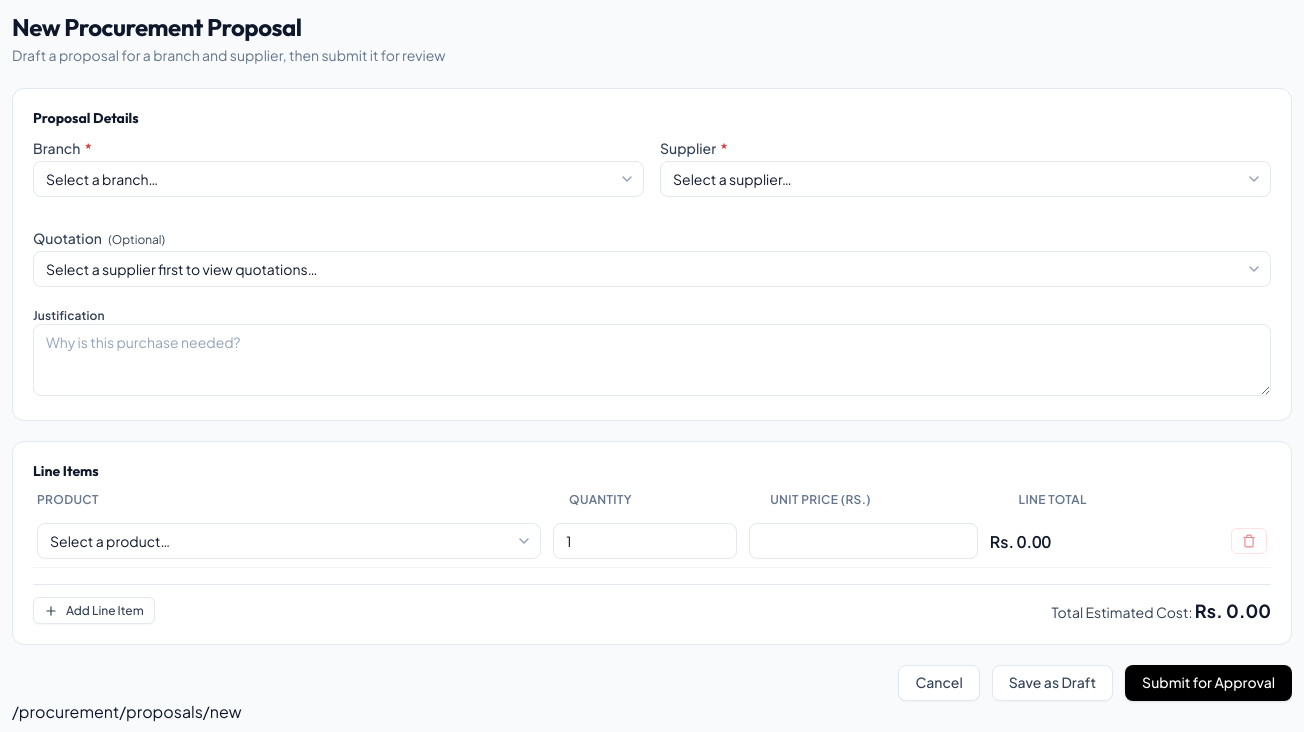
Test: NewProposalForm validation › requires supplier selection from the registered suppliers catalog
Select "Colombo Central (COL-01)" in the dropdown labelled "Branch *": (338, 179) x1=33 y1=161 x2=644 y2=197
Select "Lanka Stationery Distributors" in the dropdown labelled "Supplier *": (966, 179) x1=660 y1=161 x2=1271 y2=197
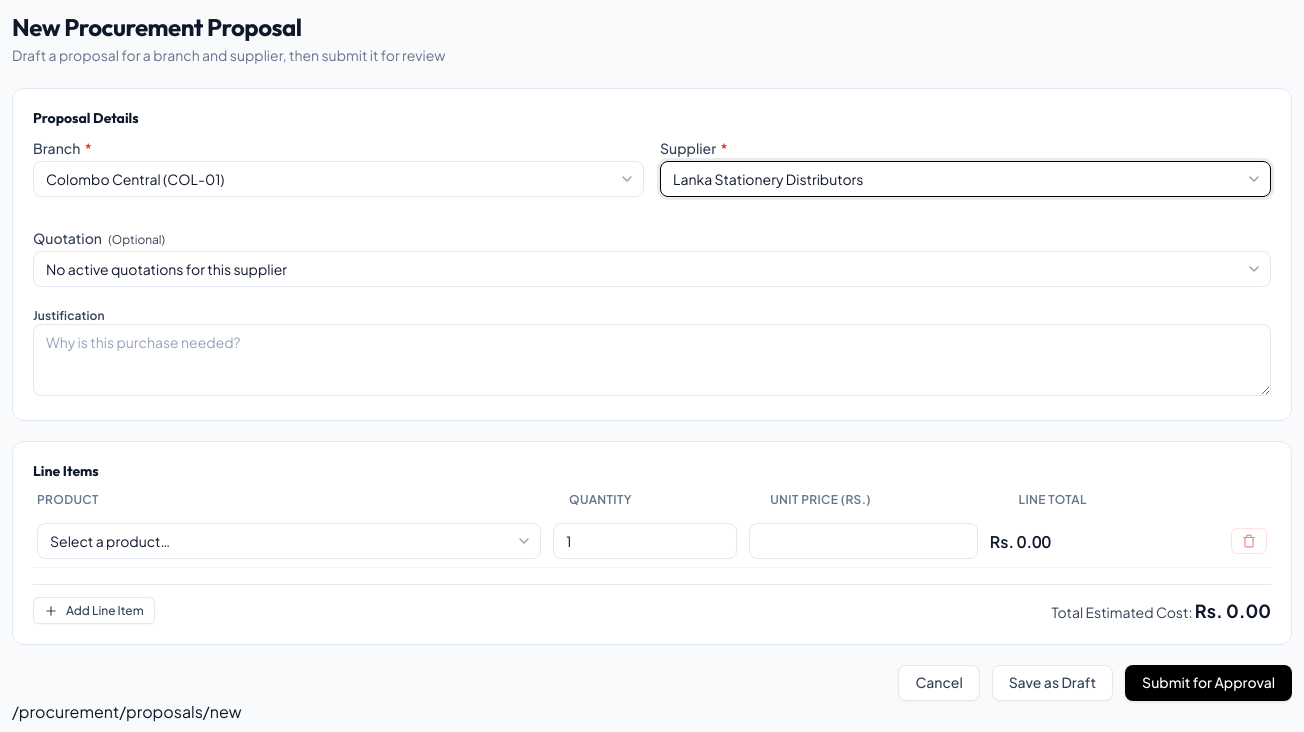
Select "Copy Paper A4 (PPR-A4)" in the dropdown named "Product": (289, 541) x1=37 y1=523 x2=541 y2=559
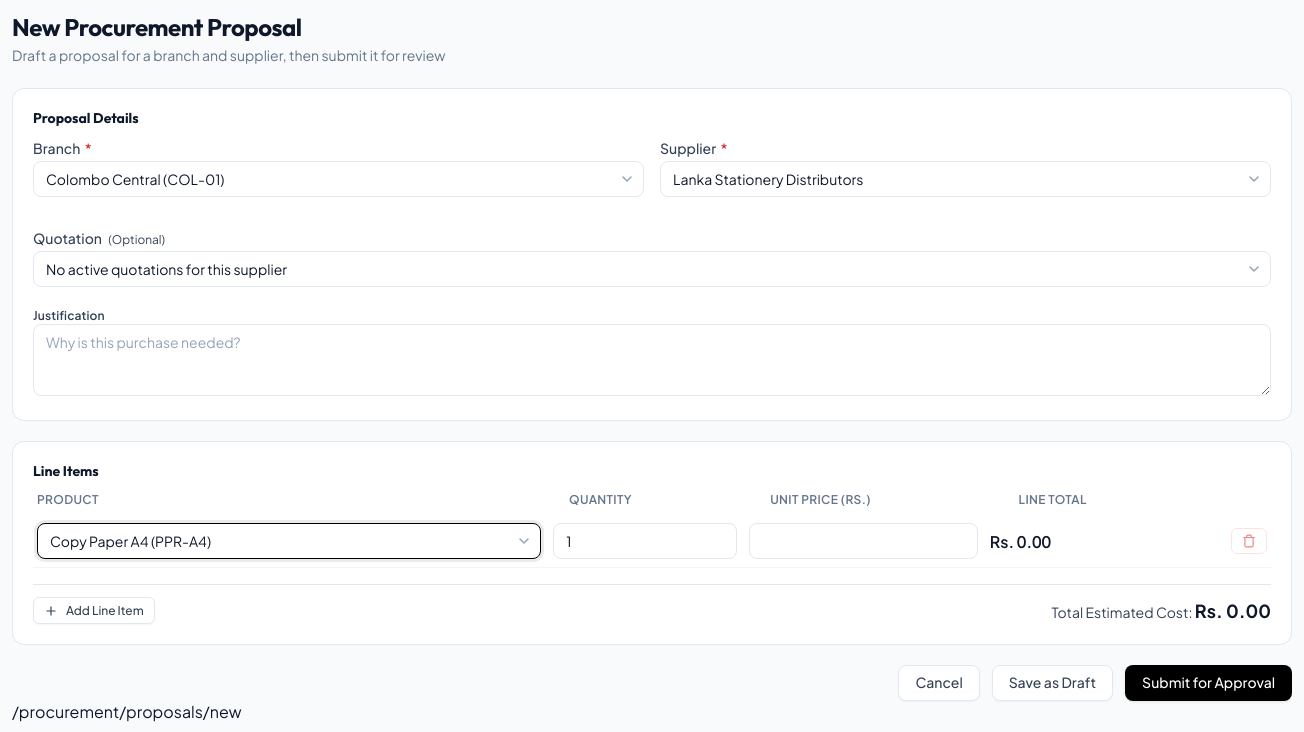
Replace the text in the 1st number field with "12": (645, 541) x1=553 y1=523 x2=737 y2=559
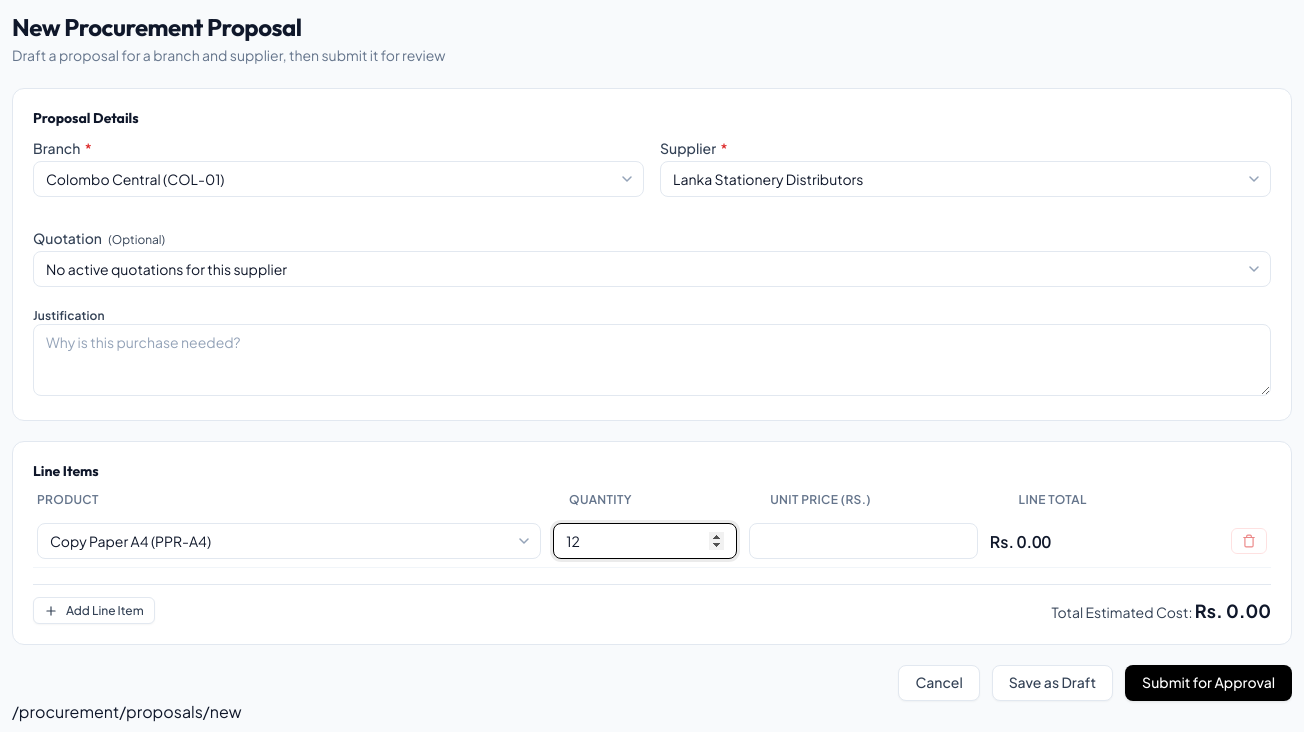
In the 2nd number field: (863, 541) x1=749 y1=523 x2=978 y2=559, type "499.5"
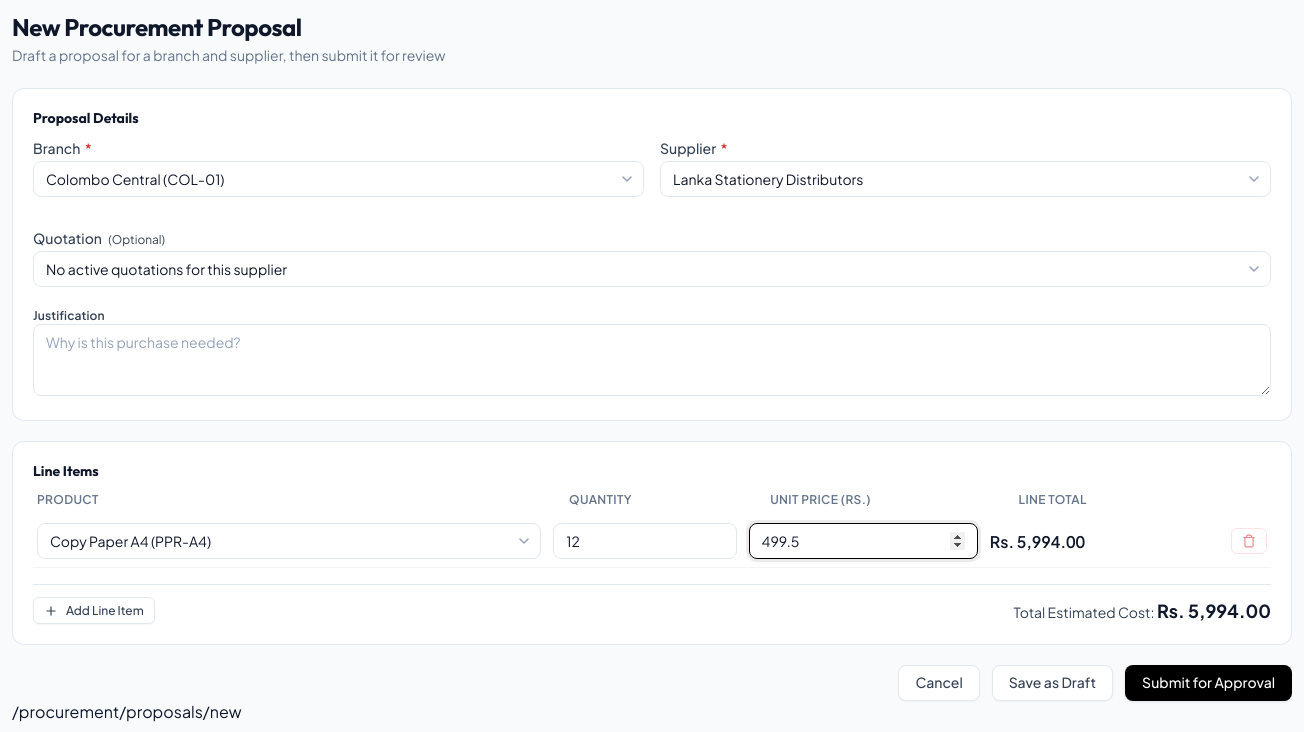
Select "Select a supplier…" in the dropdown labelled "Supplier *": (966, 179) x1=660 y1=161 x2=1271 y2=197
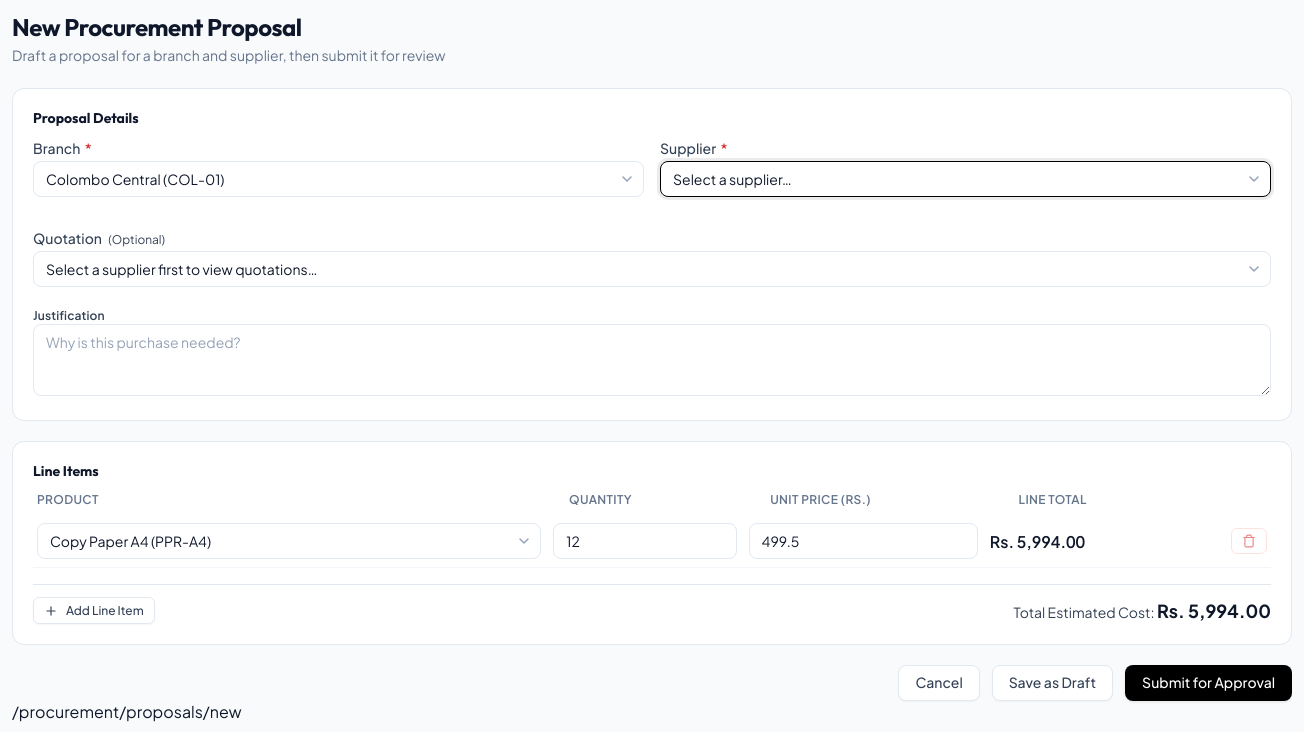
Click the button "Submit for Approval": (1209, 683) x1=1125 y1=665 x2=1292 y2=700
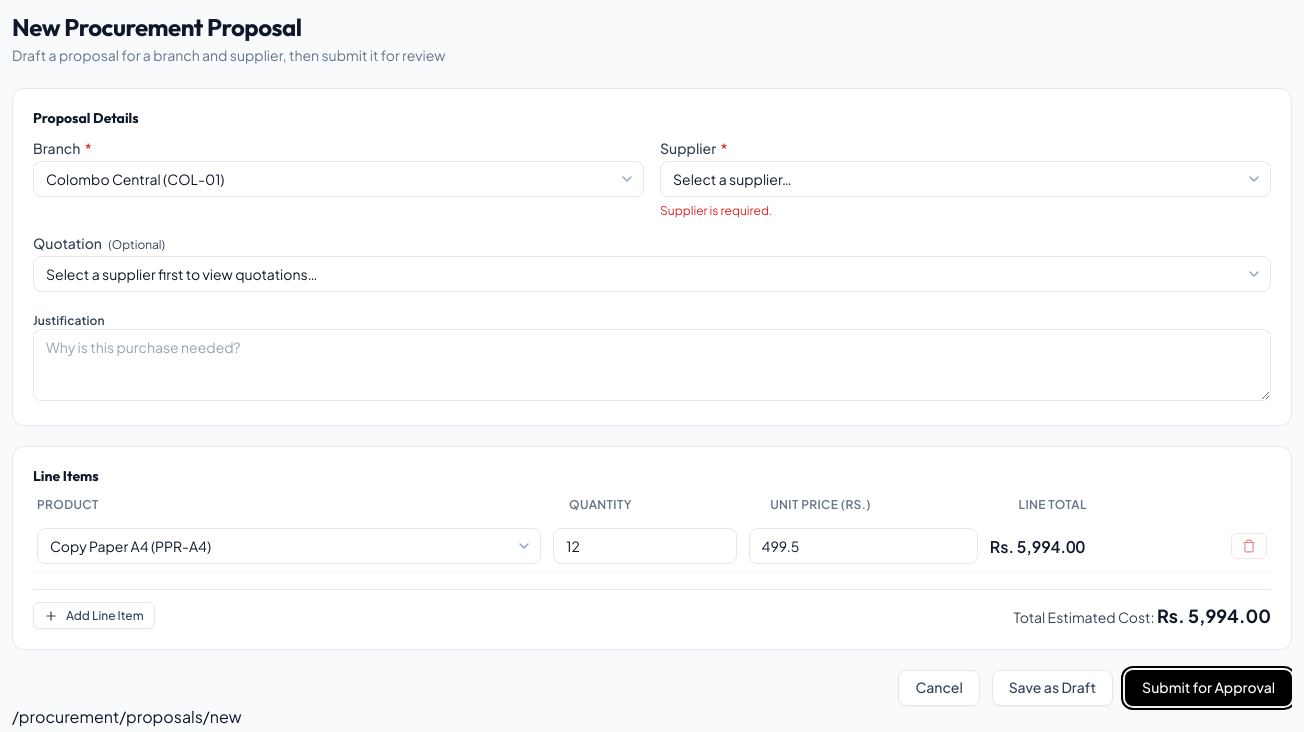
Check: the text "Supplier is required." is shown, box x1=660 y1=203 x2=772 y2=218
